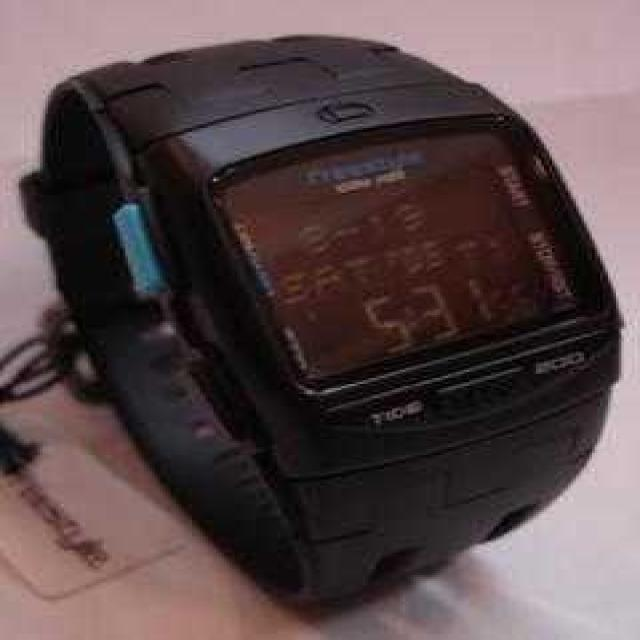watch: (185, 144, 630, 392)
